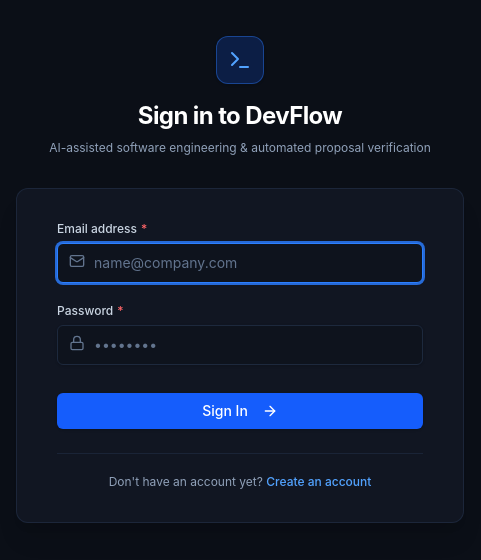
Test case: LoginPage › validates invalid email format
Type "not-an-email" into the field labelled "Email address*" at (240, 262), box [57,242,423,282]
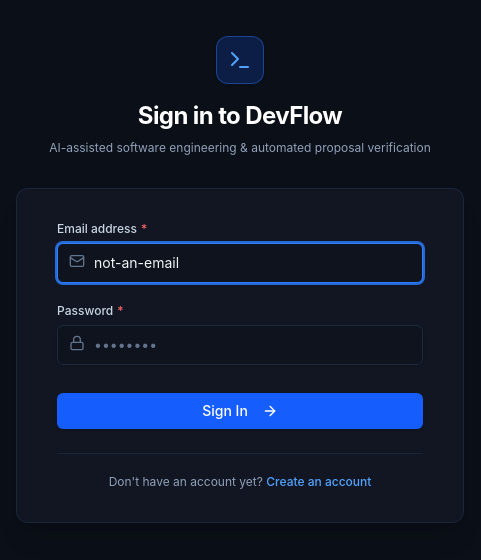
Click the button "Sign In" at (240, 410), box [57,392,423,428]
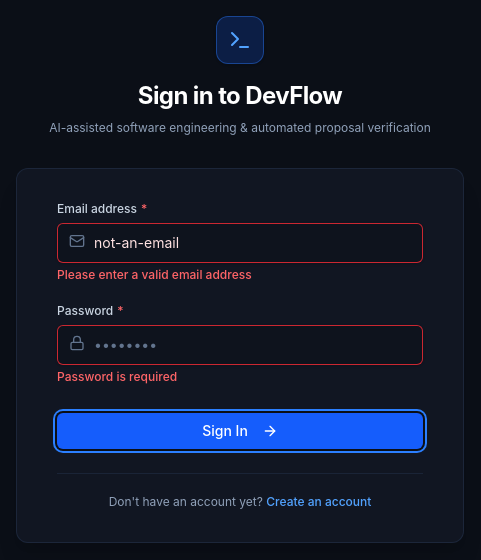
expect the text "Please enter a valid email address" is shown: met, box [57,266,252,282]
